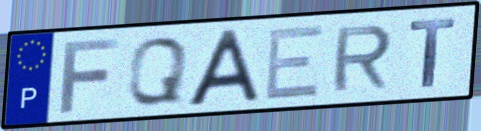A: (183, 26, 264, 109)
E: (262, 22, 327, 102)
F: (56, 36, 122, 115)
Q: (124, 34, 191, 108)
R: (328, 23, 395, 94)
T: (407, 15, 458, 90)
